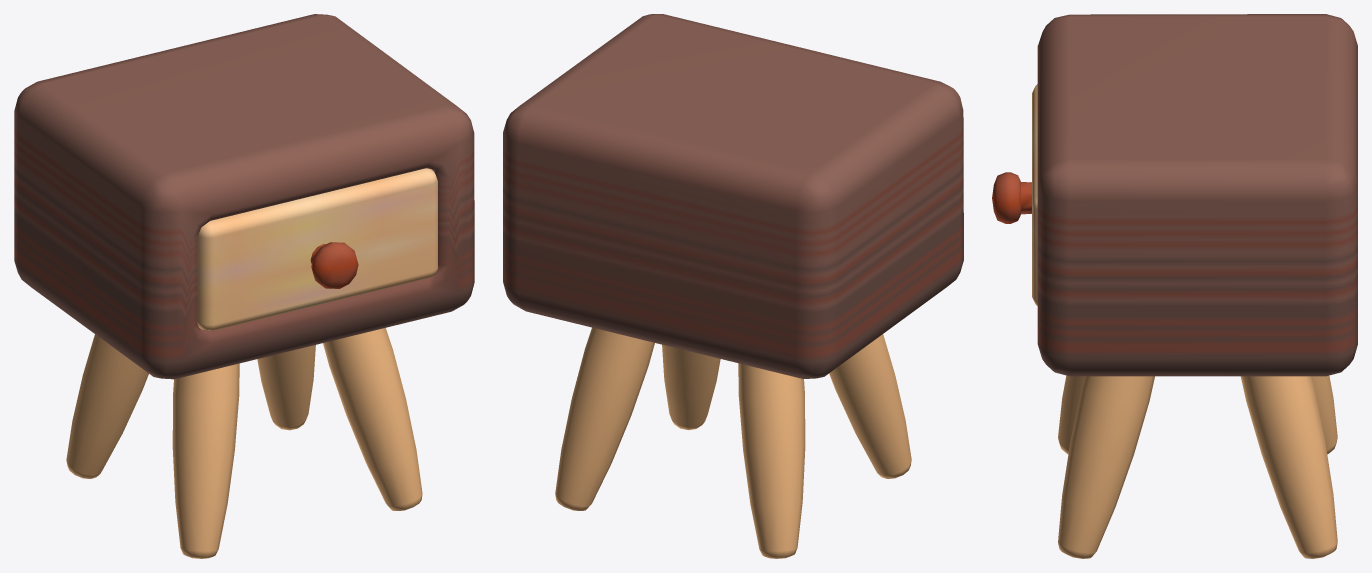
The model's file is nightstand-02.glb.
3 views of the same model, side by side, from view 1: azimuth 30°, elevation 25°; view 2: azimuth 150°, elevation 25°; view 3: azimuth 270°, elevation 25° (orthographic). The views are drawn at different scales.
Visible parts, largest first — view 1: Nightstand_02, Nightstand_02_Door; view 2: Nightstand_02; view 3: Nightstand_02, Nightstand_02_Door.
Part boxes in pixels (x1,y1,x2,y2): Nightstand_02: (14, 14, 474, 558); Nightstand_02_Door: (197, 168, 437, 330); Nightstand_02: (503, 14, 963, 558); Nightstand_02: (1037, 14, 1357, 558); Nightstand_02_Door: (992, 84, 1037, 305).
Bounding box in the file's own units: 0.5 × 0.575 × 0.4572.
Materials: 1 (1 with a texture image).
